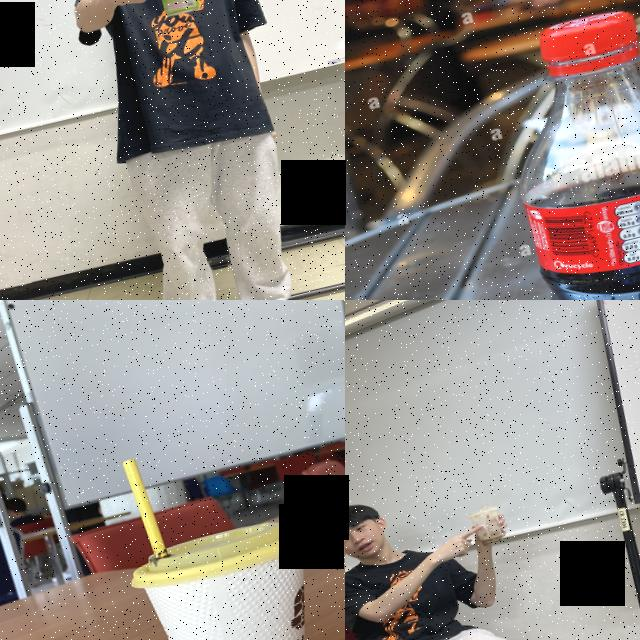bottle: (475, 0, 640, 300)
can: (146, 0, 205, 19)
cup: (119, 509, 345, 640), (465, 503, 508, 550)
